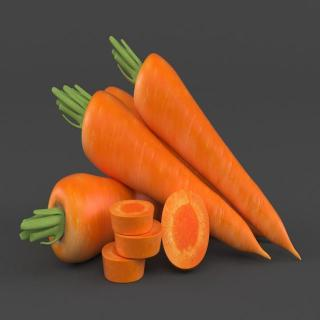carrot: (131, 53, 302, 265), (79, 87, 273, 265), (48, 170, 152, 264)
